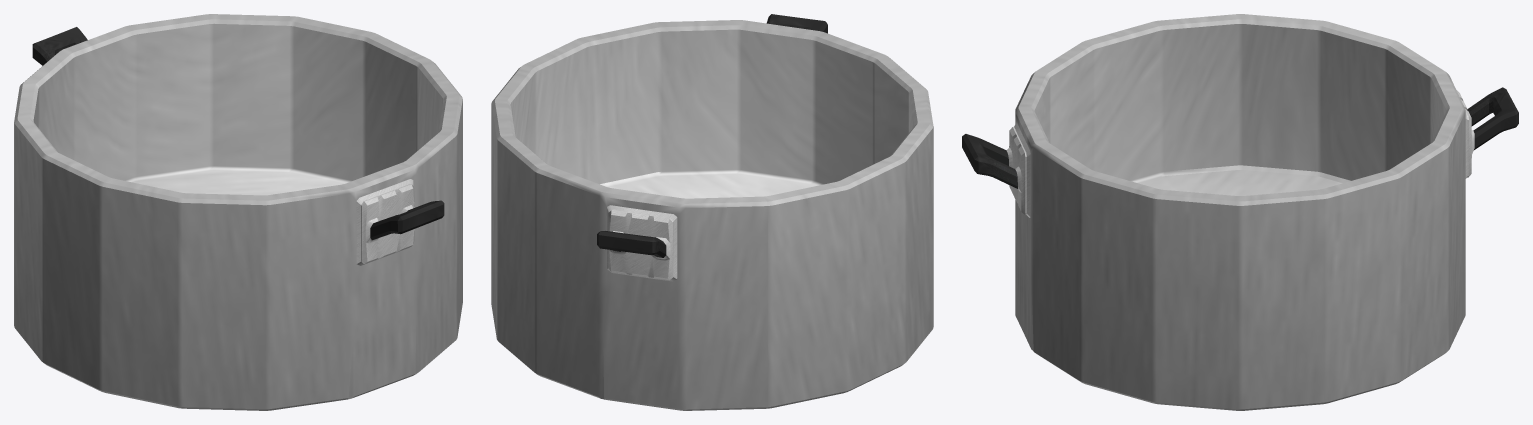
Rendered from Pot.fbx.
3 views of the same model, side by side, from view 1: azimuth 30°, elevation 25°; view 2: azimuth 150°, elevation 25°; view 3: azimuth 270°, elevation 25° (orthographic).
Visible parts, largest first — view 1: Pot; view 2: Pot; view 3: Pot.
Boxes of the visible parts, <box> form: Pot: <box>14,14,462,410</box>; Pot: <box>491,14,933,410</box>; Pot: <box>962,14,1518,410</box>.
Bounding box in the file's own units: 31.2 × 16.01 × 38.57.
1 material, 1 textured.
